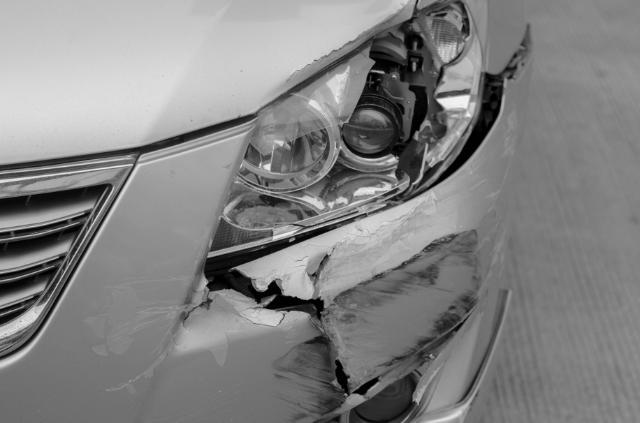Bumper: (189, 220, 525, 423), (476, 18, 546, 175)
Light: (203, 0, 496, 257)
